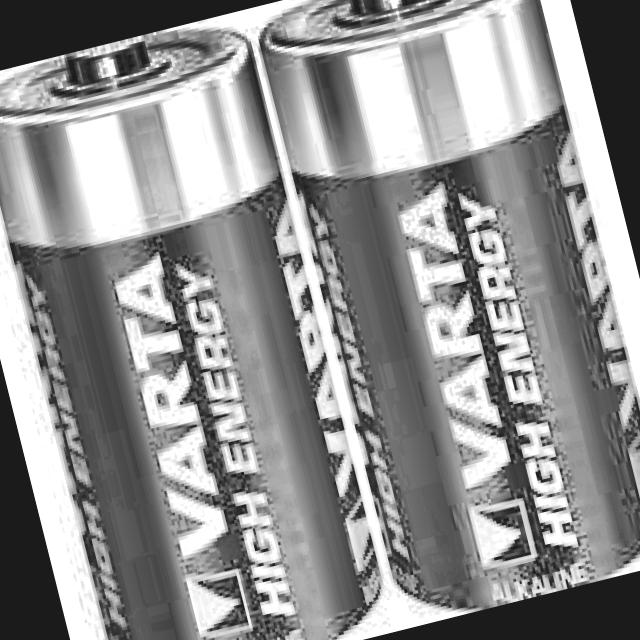Battery: (0, 10, 394, 640), (248, 0, 640, 629)
